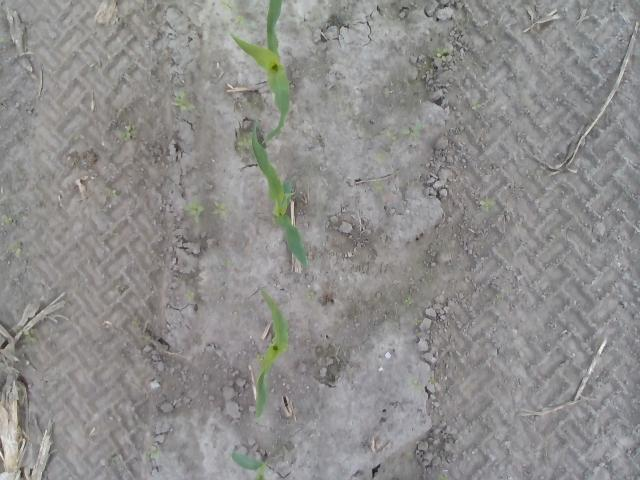Maize: (227, 0, 291, 146), (248, 122, 310, 269), (253, 286, 290, 416), (230, 449, 268, 480)
Weeds: (386, 123, 420, 142), (173, 88, 194, 112), (186, 198, 203, 218), (478, 196, 498, 210), (211, 200, 226, 218), (232, 13, 248, 26), (236, 137, 252, 150), (435, 48, 449, 60), (124, 125, 134, 140), (1, 213, 12, 224), (472, 98, 482, 110), (150, 446, 160, 458), (306, 290, 316, 300), (404, 296, 414, 305), (185, 290, 193, 300), (223, 0, 234, 4)
